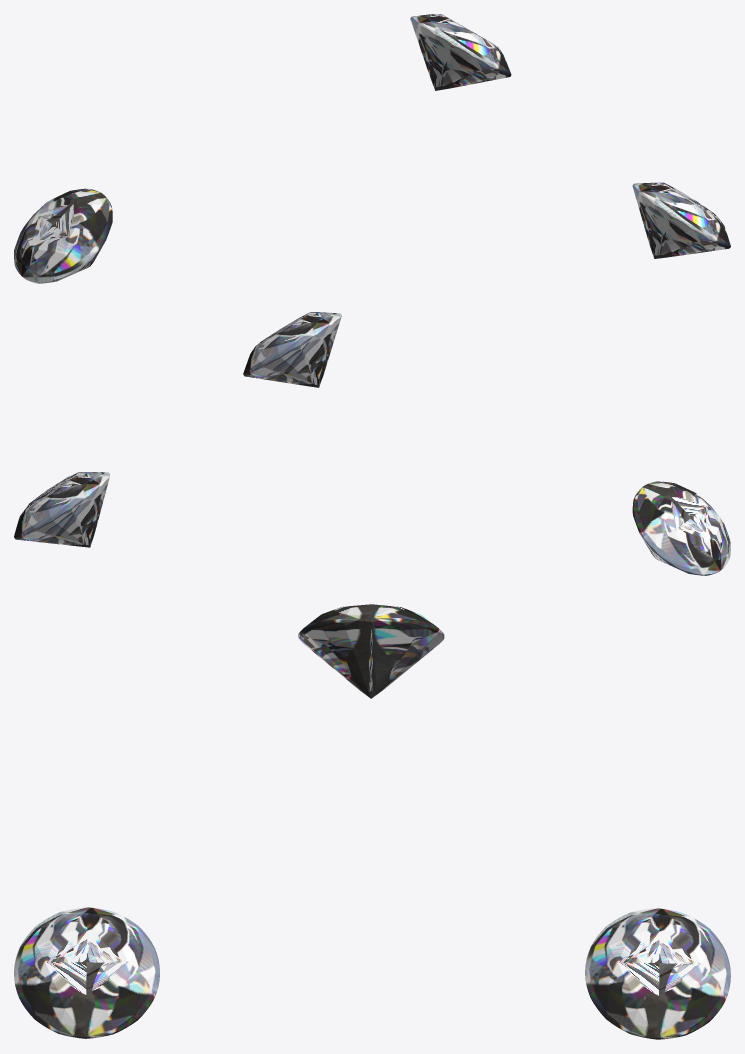
The model's file is MODEL 3 STONEE.fbx.
3 renders of one model, top to bottom at view 1: azimuth 30°, elevation 25°; view 2: azimuth 150°, elevation 25°; view 3: azimuth 270°, elevation 25°, orthographic. The views are drawn at different scales.
Visible parts, largest first — view 1: Object_4, Object_1, Object_3; view 2: Object_4, Object_3, Object_1; view 3: Object_1, Object_3, Object_4.
Boxes of the visible parts, x1=… form: Object_4: x1=14, y1=188, x2=112, y2=283; Object_1: x1=632, y1=182, x2=730, y2=258; Object_3: x1=410, y1=14, x2=511, y2=90; Object_4: x1=632, y1=481, x2=730, y2=575; Object_3: x1=14, y1=472, x2=110, y2=547; Object_1: x1=243, y1=312, x2=341, y2=387; Object_1: x1=14, y1=907, x2=159, y2=1038; Object_3: x1=585, y1=908, x2=730, y2=1039; Object_4: x1=298, y1=604, x2=444, y2=698.
Bounding box in the file's own units: 14.75 × 12.28 × 2.16.
1 material, 1 textured.
